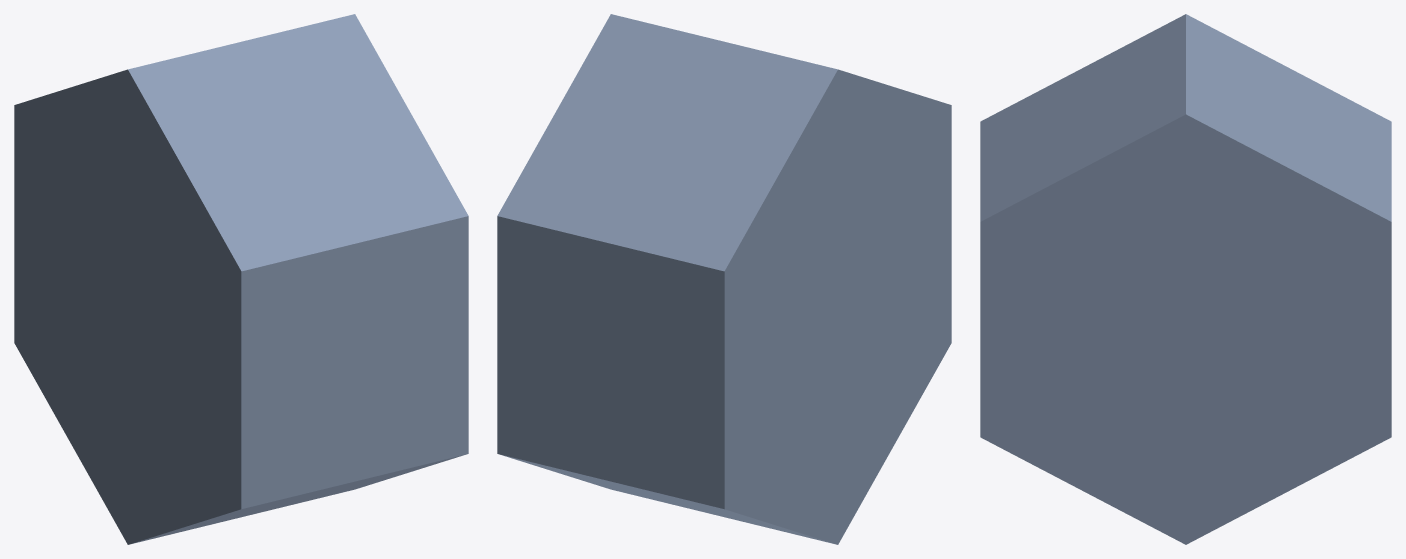
Rendered from thermostat_button.glb.
The picture shows the model from 3 angles, left to right: view 1: azimuth 30°, elevation 25°; view 2: azimuth 150°, elevation 25°; view 3: azimuth 270°, elevation 25°; orthographic projection. The views are drawn at different scales.
Parts seen in each view (by area): view 1: Thermostat.Button; view 2: Thermostat.Button; view 3: Thermostat.Button.
Boxes of the visible parts, <box> form: Thermostat.Button: <box>14,14,468,544</box>; Thermostat.Button: <box>497,14,951,544</box>; Thermostat.Button: <box>980,14,1391,544</box>.
Bounding box in the file's own units: 0.0728 × 0.1457 × 0.1262.
Materials: 1 (1 with a texture image).
